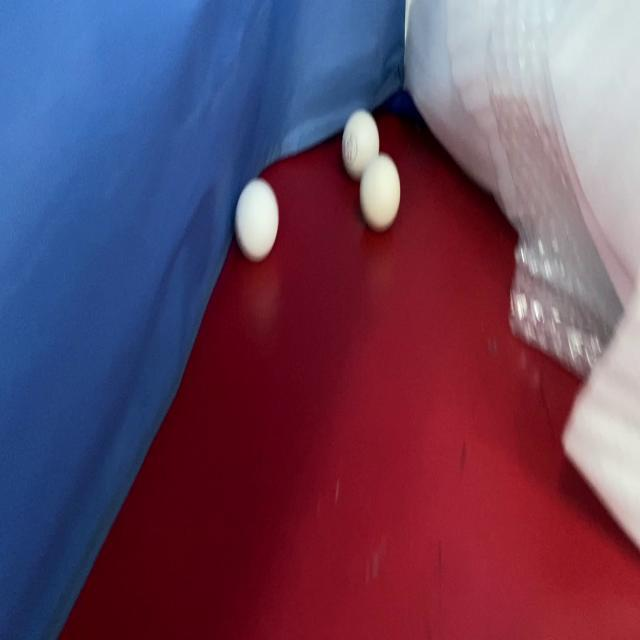ping-pong-ball: (233, 175, 280, 268), (358, 154, 403, 232), (339, 105, 382, 183)
